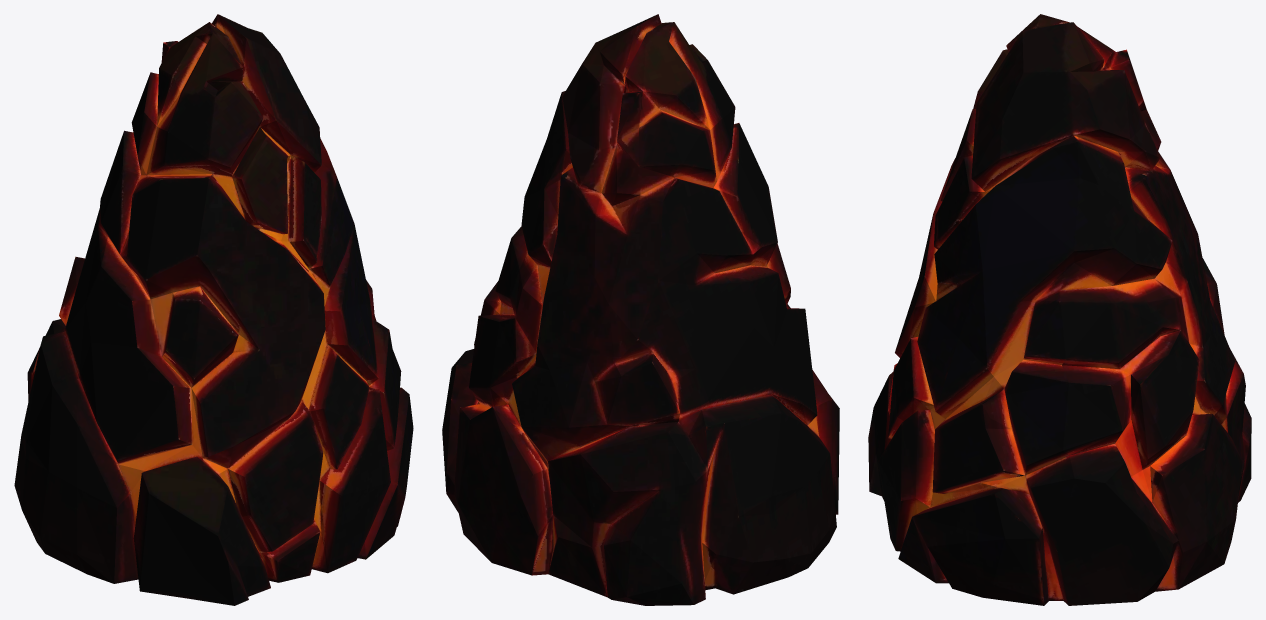
File: lava_rock_pinnacle.glb
3 renders of one model, left to right at view 1: azimuth 30°, elevation 25°; view 2: azimuth 150°, elevation 25°; view 3: azimuth 270°, elevation 25°, orthographic.
Size of the model in its own units: 1.44 by 1.98 by 1.36.
Materials: 1 (1 with a texture image).
